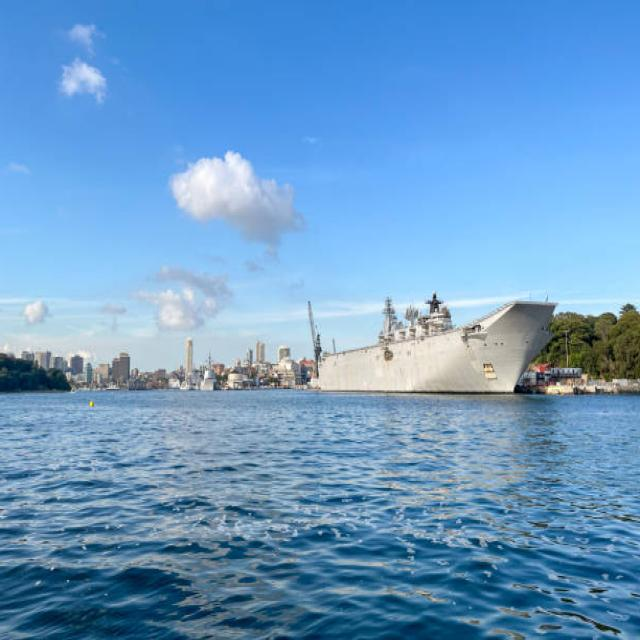Military: (303, 294, 557, 402)
